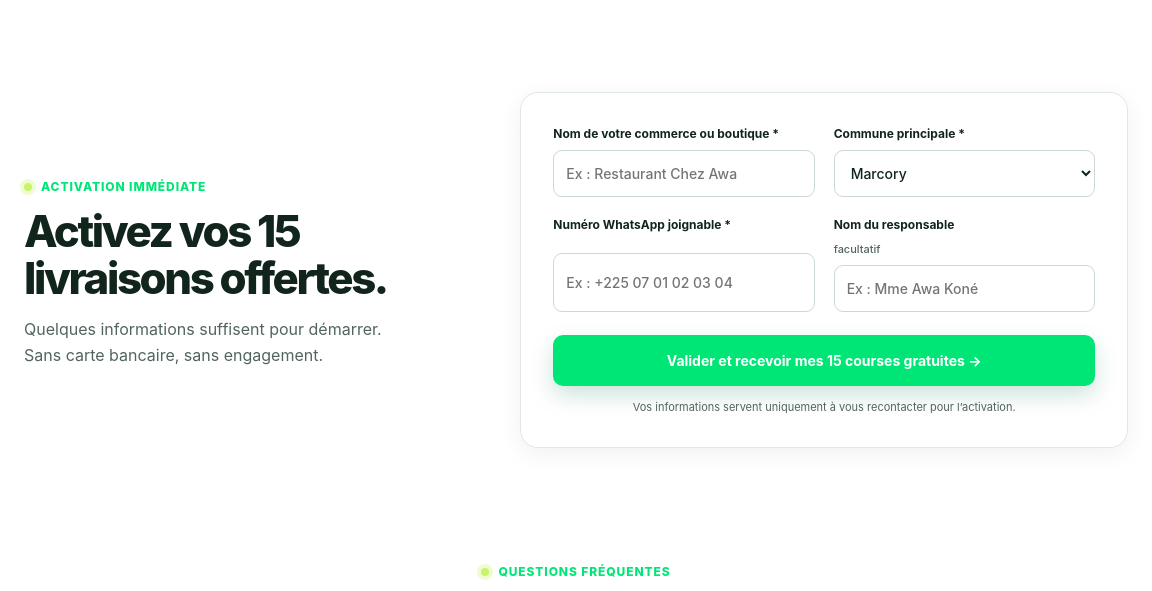
Test: VentePage › valide les champs obligatoires du formulaire d’activation
(page scrolled)
Step 1. Click the button "Valider et recevoir mes 15 courses gratuites →" → (824, 360), box top-left (553, 335), bottom-right (1095, 386)
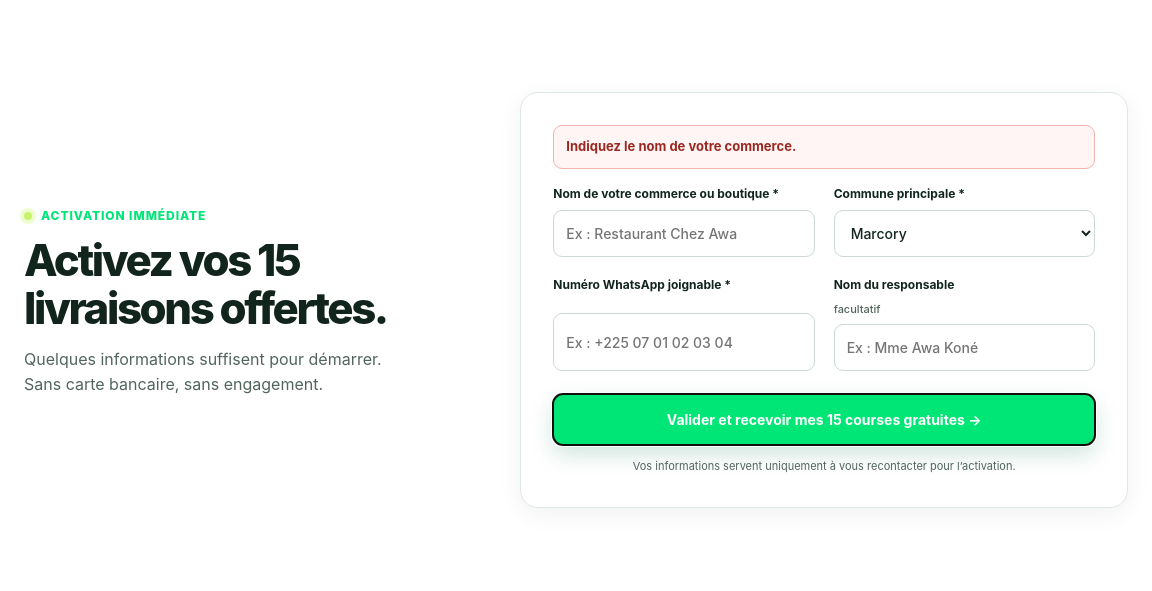
Result: the text "Indiquez le nom de votre commerce." is shown at top-left (553, 125), bottom-right (1095, 169)
